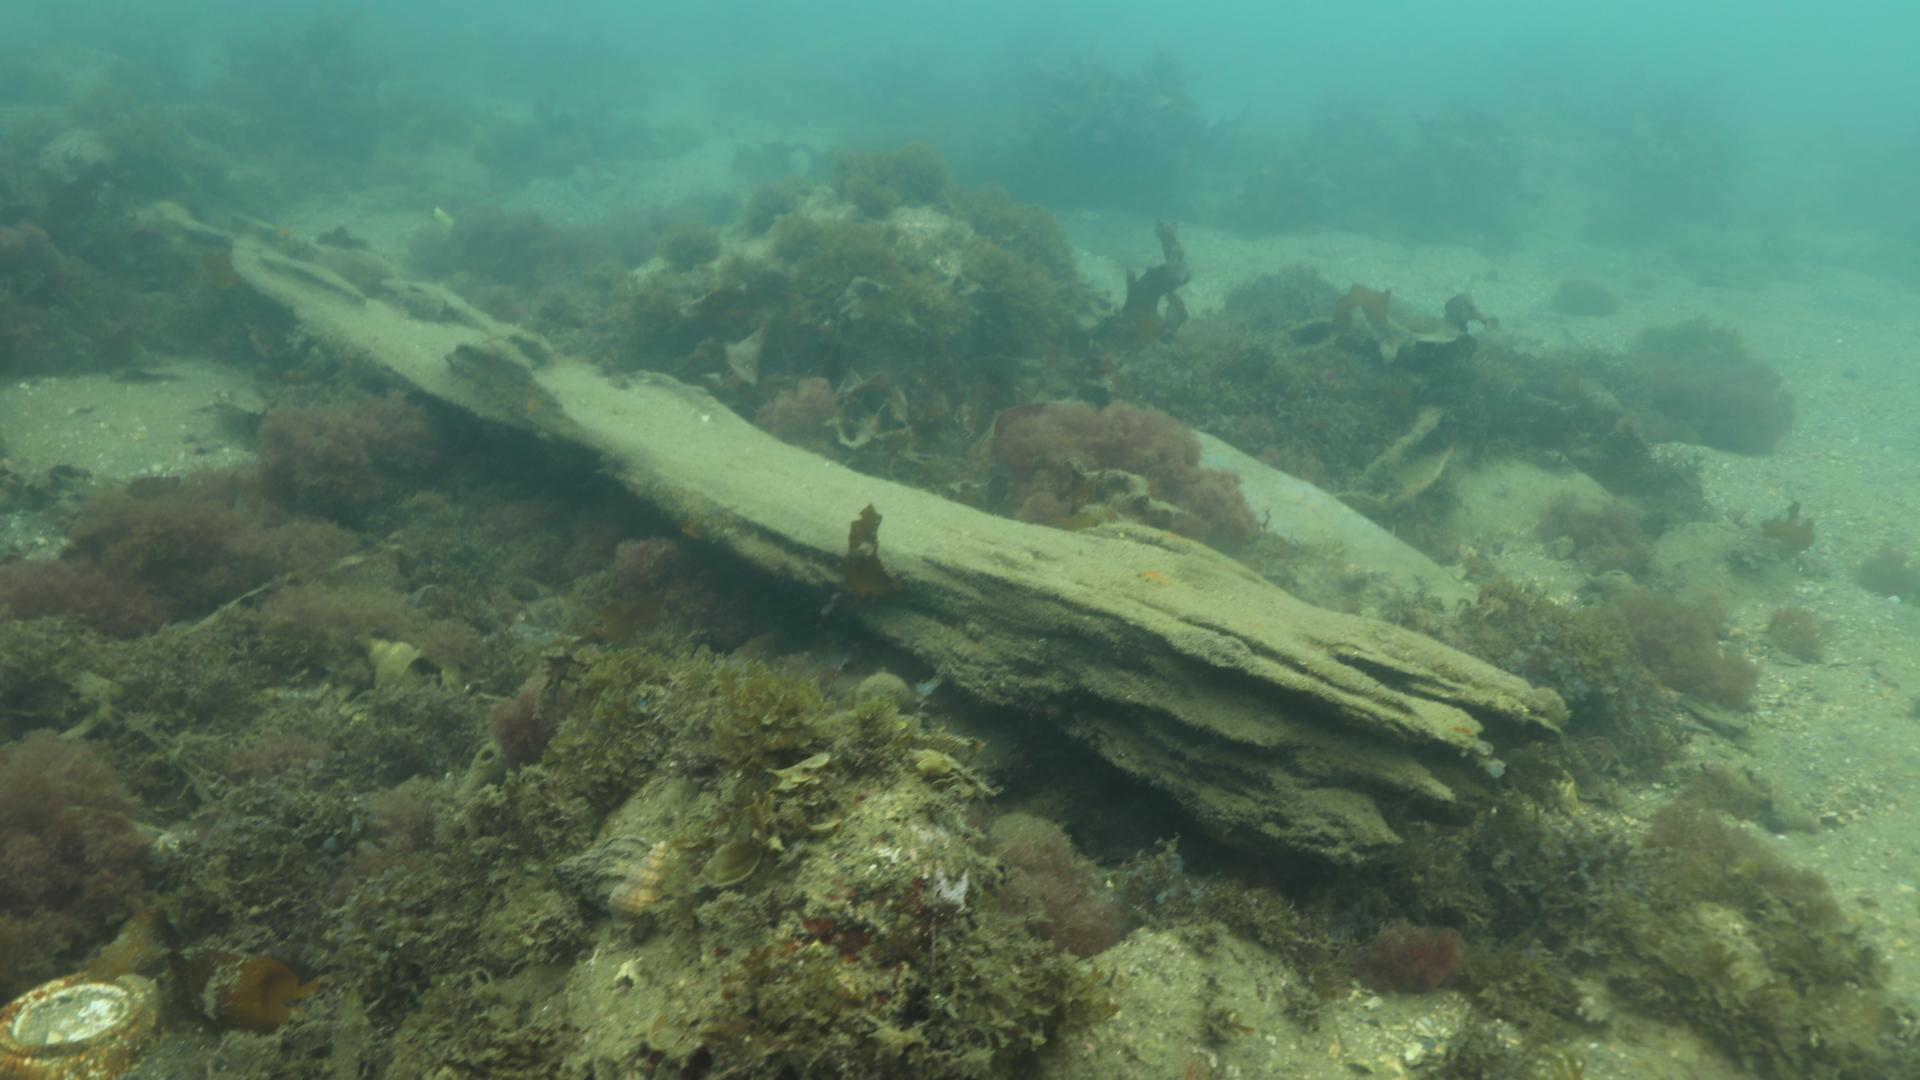wood: (225, 211, 1571, 870)
